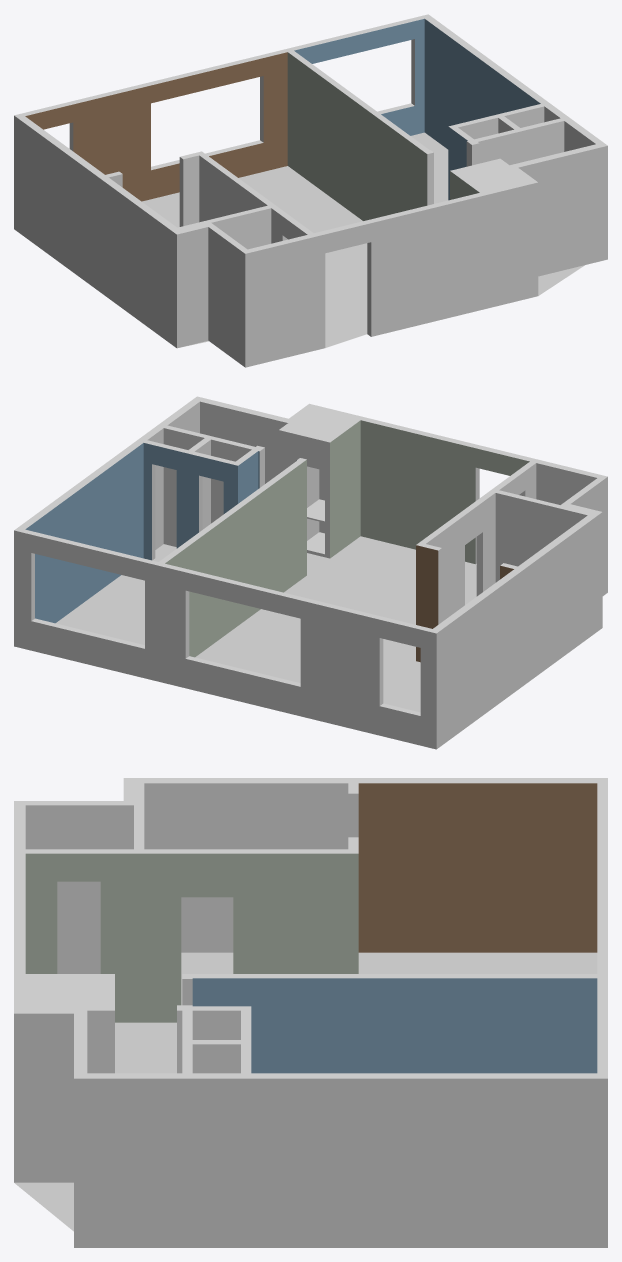
File: 6K shell for Unity textures 2.fbx
3 views of the same model, one above another, from view 1: azimuth 30°, elevation 25°; view 2: azimuth 150°, elevation 25°; view 3: azimuth 270°, elevation 25° (orthographic). The views are drawn at different scales.
Parts seen in each view (by area): view 1: Model; view 2: Model; view 3: Model.
Boxes of the visible parts, <box> form: Model: <box>14,14,607,367</box>; Model: <box>14,396,607,749</box>; Model: <box>14,778,607,1247</box>.
Bounding box in the file's own units: 412 × 108 × 344.
